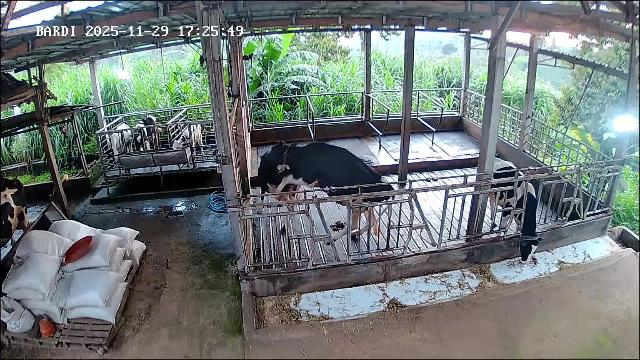mounting: (263, 138, 394, 246)
